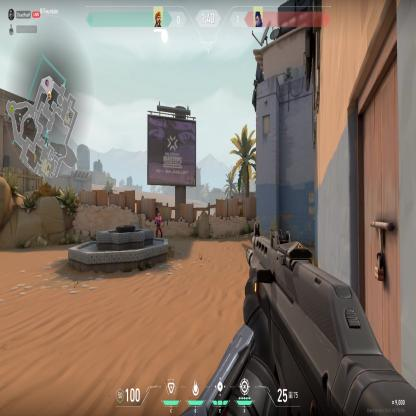enemy: (154, 210, 163, 238)
